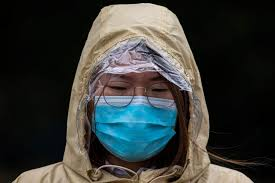with-mask: (87, 31, 186, 167)
